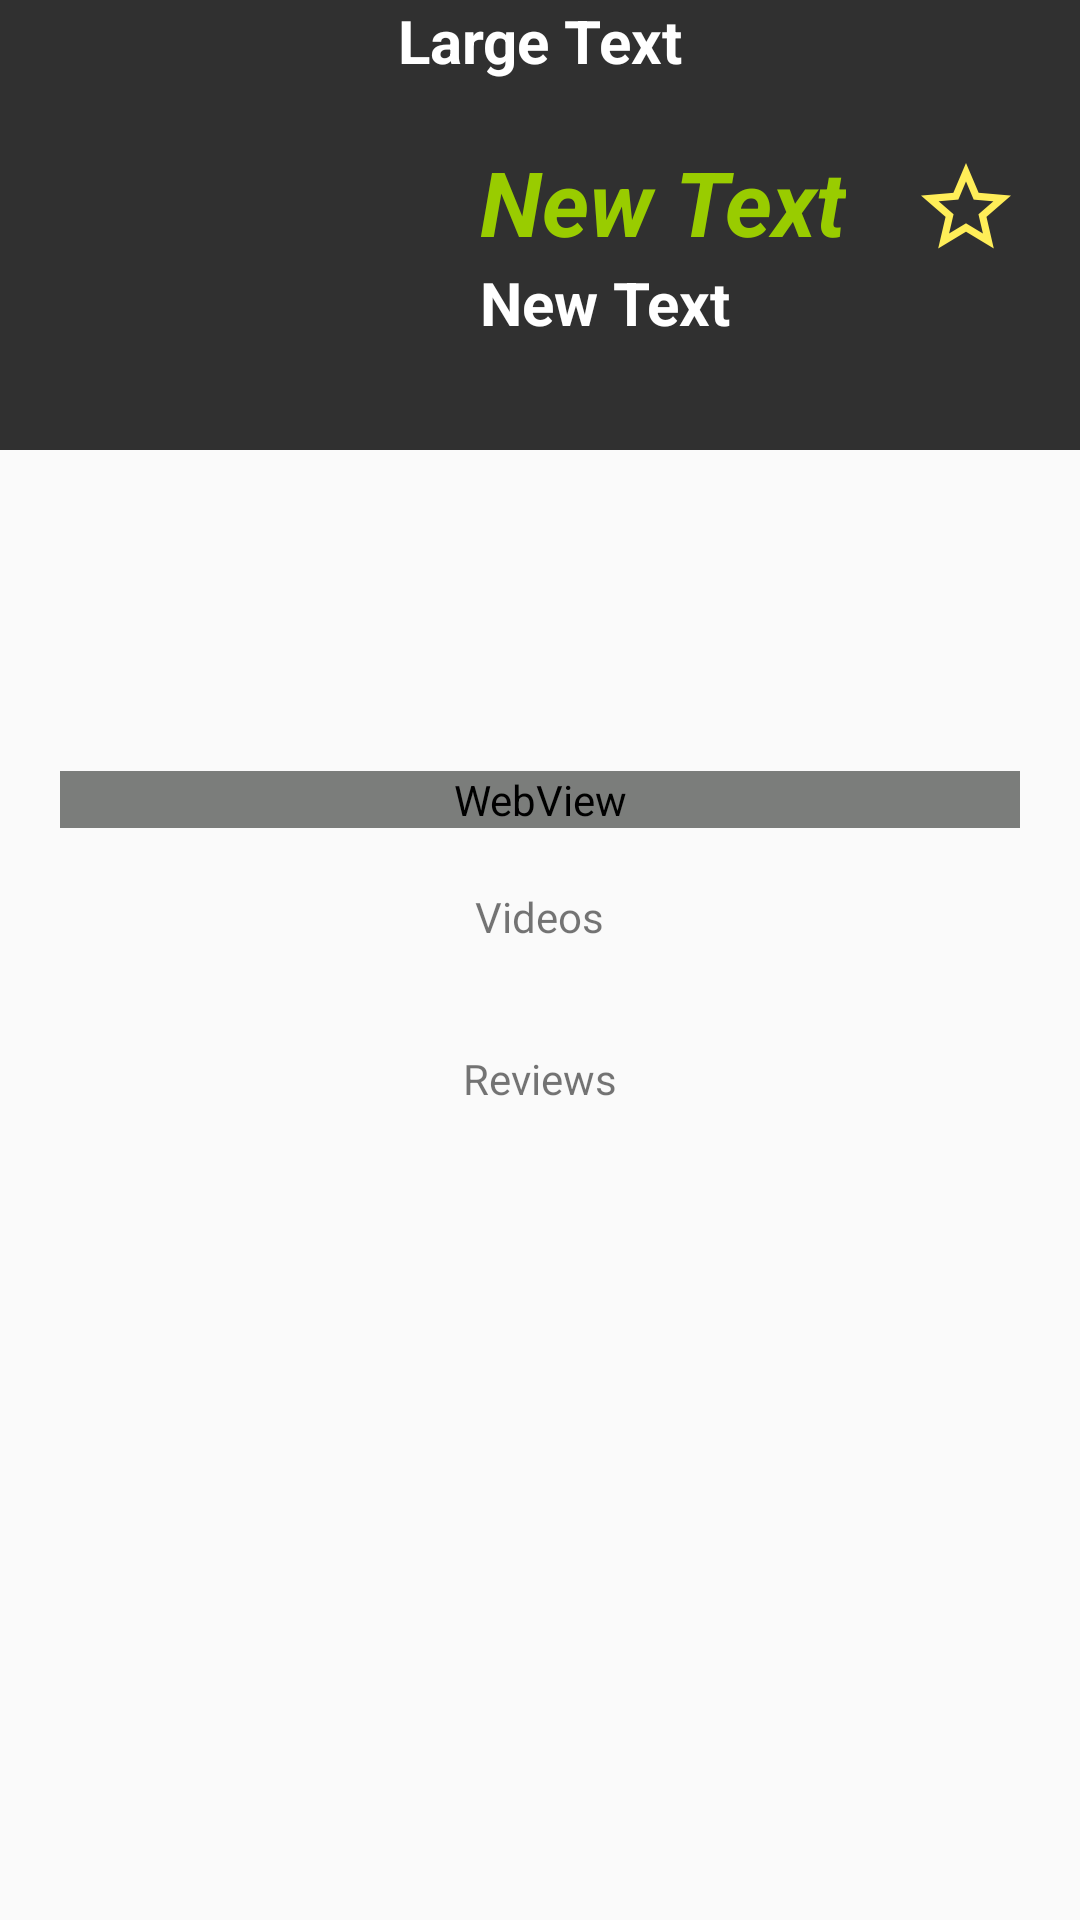

Named icons in this screenshot (1080×1920) and their bounding boxes, [x1=x1, y1=y1, x2=x2, y2=y2]:
star: [x1=921, y1=163, x2=1011, y2=249]
